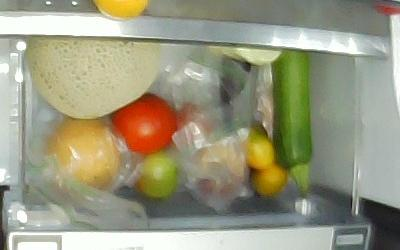melon: (29, 35, 157, 119)
pear_vinyl: (43, 119, 119, 192)
tangerine: (239, 129, 275, 170), (252, 160, 286, 196)
tomato: (110, 92, 178, 153), (137, 154, 178, 198)
zucchini: (271, 49, 311, 196)
